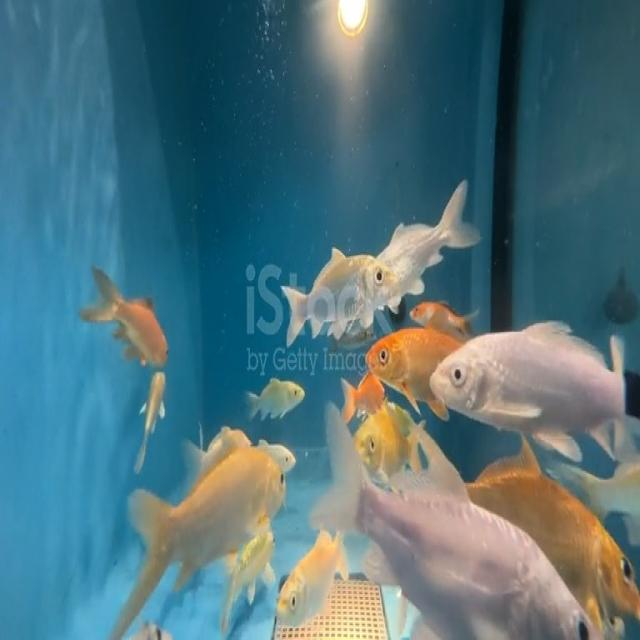fish: (302, 400, 598, 640), (100, 449, 294, 632), (479, 437, 640, 629), (423, 320, 633, 454), (257, 497, 350, 638), (275, 237, 406, 332), (376, 175, 488, 276), (80, 255, 178, 370), (339, 397, 434, 477), (220, 521, 277, 630), (359, 323, 431, 393), (131, 354, 172, 467), (244, 370, 305, 419), (403, 291, 472, 333), (261, 435, 298, 472)
